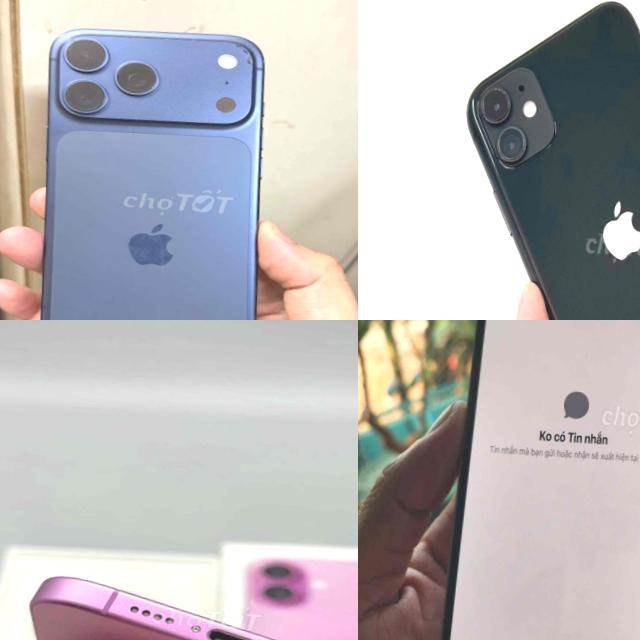gen_11: (441, 0, 640, 320)
gen_12_13: (435, 320, 640, 640)
gen_16: (0, 557, 358, 640)
gen_17: (0, 0, 303, 320)
scratch: (192, 20, 278, 89)
